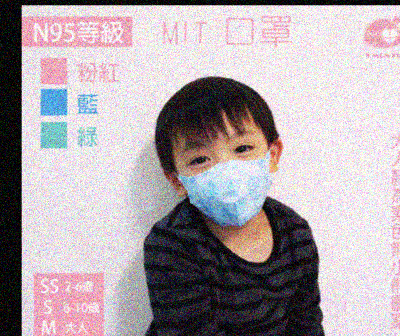with_mask: (174, 127, 272, 228)
